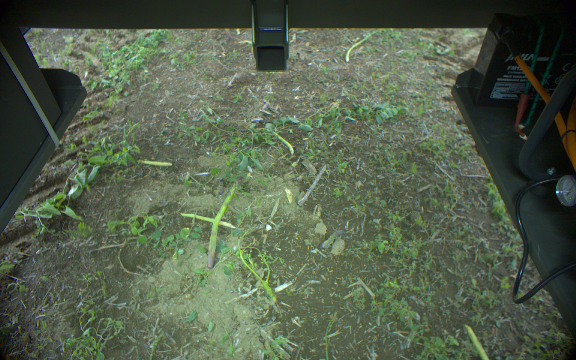aspa: (205, 176, 241, 265), (177, 209, 237, 232)
